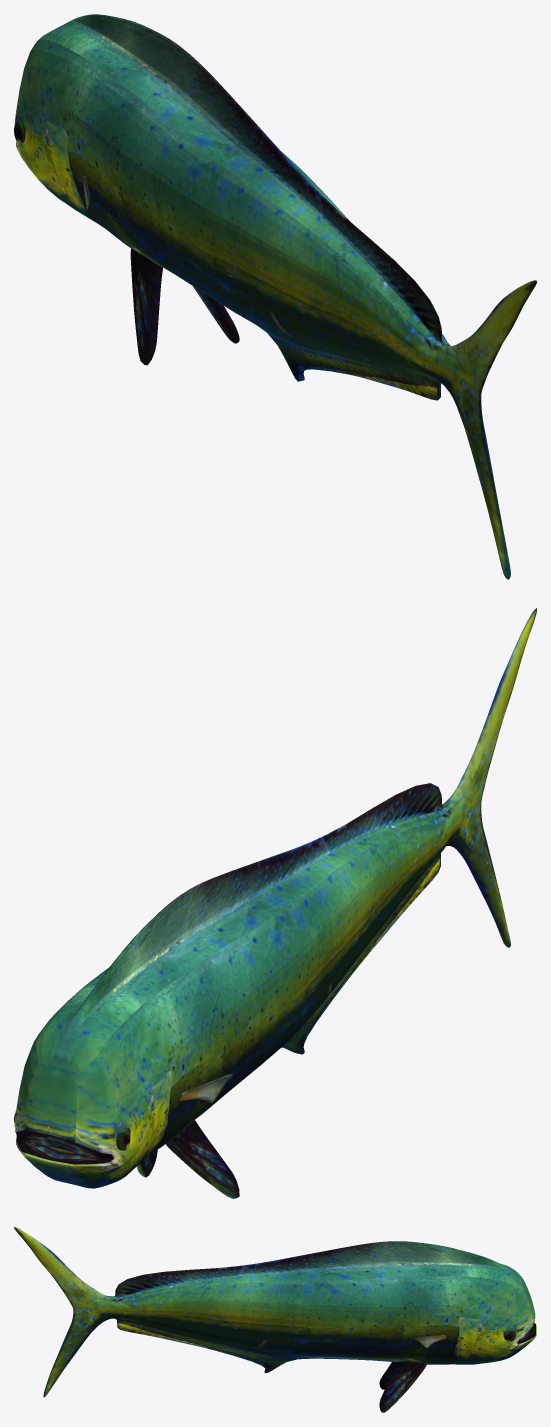
File: mahi-mahi_male_static_parts.glb
3 views of the same model, one above another, from view 1: azimuth 30°, elevation 25°; view 2: azimuth 150°, elevation 25°; view 3: azimuth 270°, elevation 25° (orthographic). The views are drawn at different scales.
Visible parts, largest first — view 1: mahi-combined, mahi-male.pelvic-fins.l, mahi-male.pelvic-fins.r; view 2: mahi-combined, mahi-male.pelvic-fins.l, mahi-male.pectoral-fins.l; view 3: mahi-combined, mahi-male.pelvic-fins.r.
Boxes of the visible parts, box(x1,y1,x2,y2) form: mahi-combined: box(14, 14, 536, 579); mahi-male.pelvic-fins.l: box(130, 248, 162, 365); mahi-male.pelvic-fins.r: box(193, 286, 239, 343); mahi-combined: box(14, 608, 536, 1188); mahi-male.pelvic-fins.l: box(166, 1120, 239, 1198); mahi-male.pectoral-fins.l: box(179, 1073, 233, 1102); mahi-combined: box(14, 1227, 536, 1397); mahi-male.pelvic-fins.r: box(379, 1361, 426, 1412).
Size of the model in its own units: 1.66 by 3.59 by 9.79.
1 material, 1 textured.
